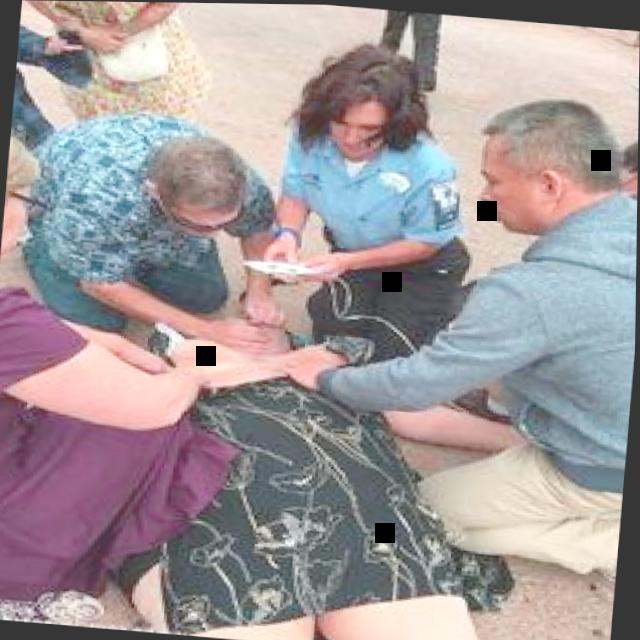Fall-Detected: (104, 263, 582, 640)
